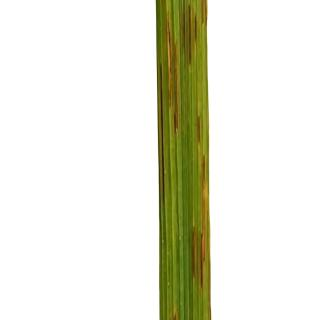Bercak-Cokelat-Sempit: (159, 11, 181, 135), (182, 1, 202, 70), (200, 160, 210, 293), (194, 113, 202, 151), (191, 223, 195, 285), (200, 0, 209, 20)
